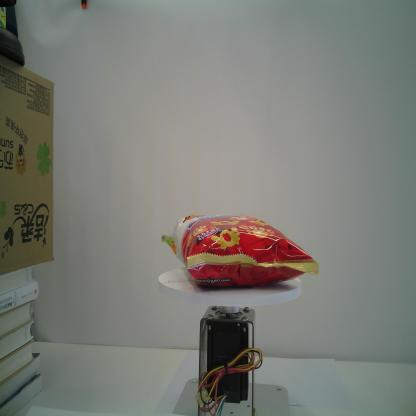Puffed Food: (160, 214, 319, 289)
